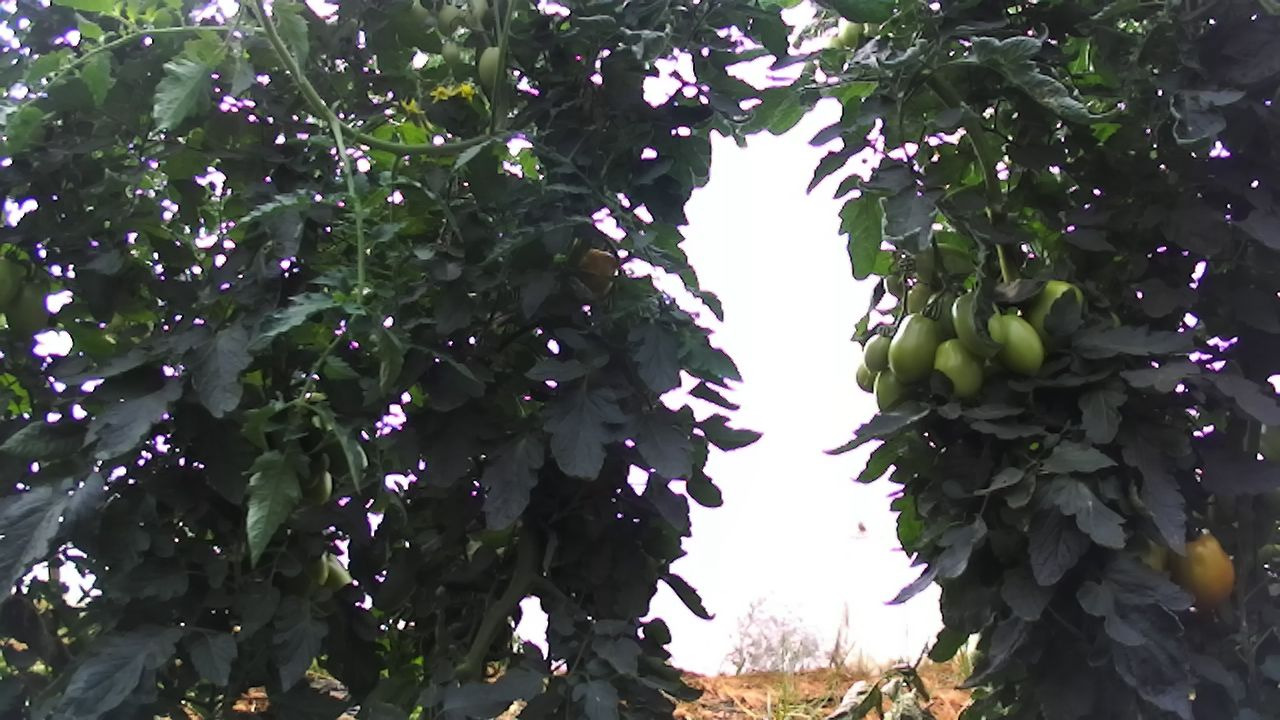tomato: (1170, 532, 1236, 610), (947, 287, 1008, 365), (883, 307, 942, 386), (984, 308, 1046, 378), (931, 333, 992, 403), (861, 331, 890, 373)
